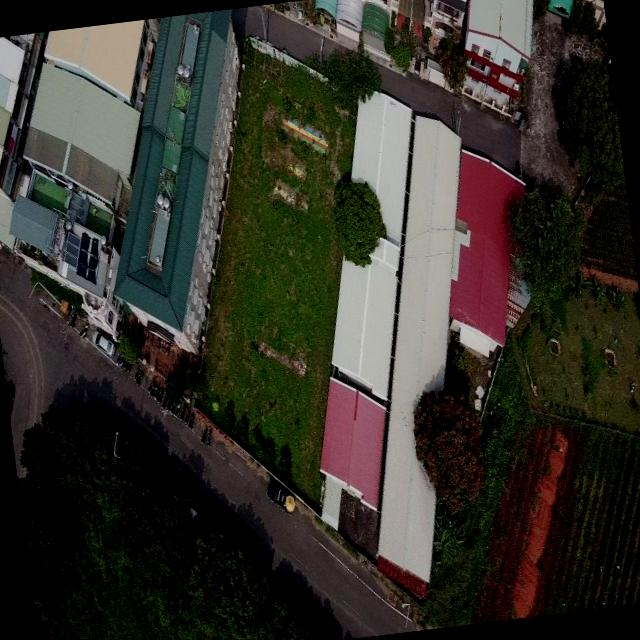car: (265, 476, 297, 516), (90, 324, 116, 358)
